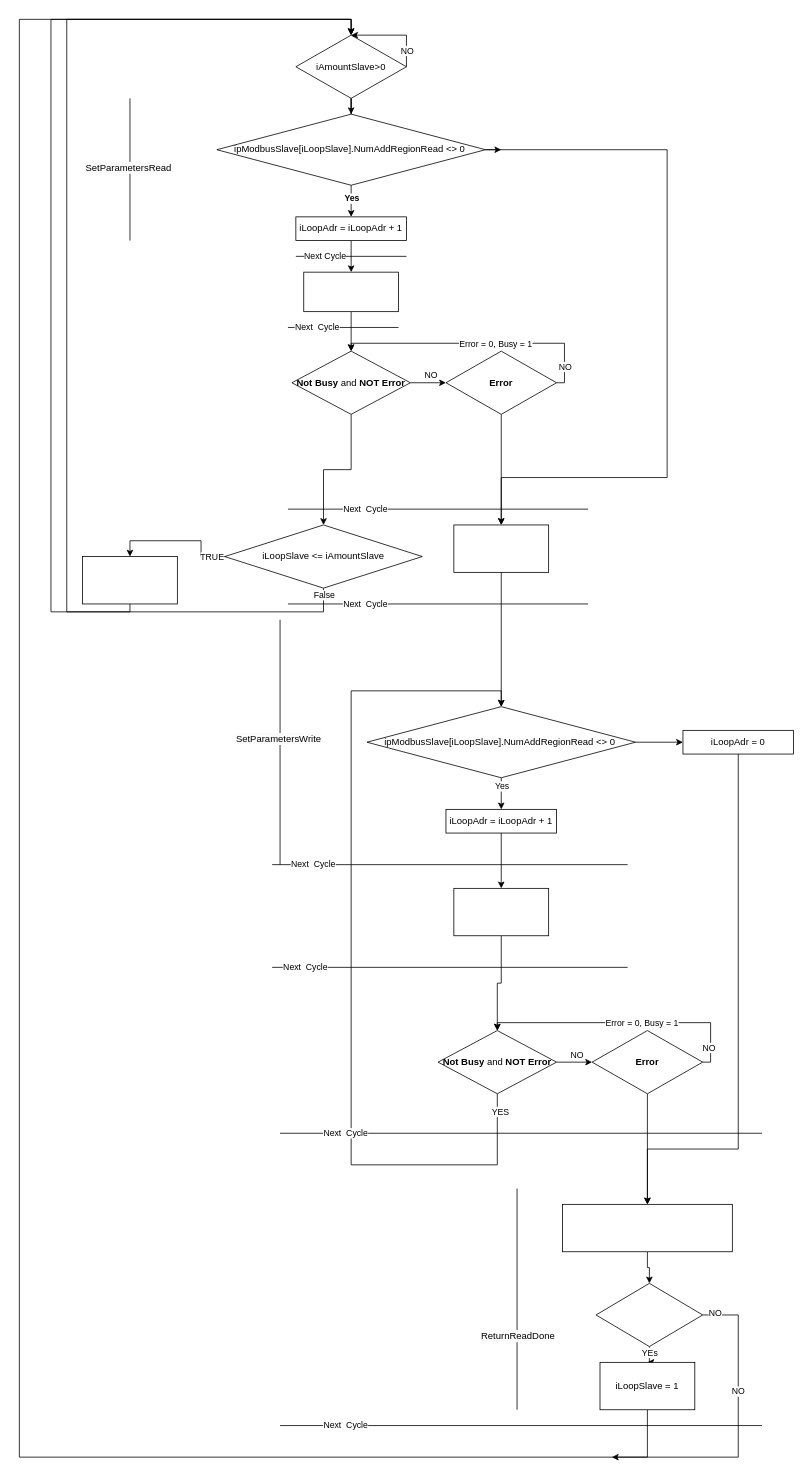
Some shapes in this 807 by 1477 pixel diagram are drawn without their labels. Each missing label, with the centre of its shape:
"Call Slave Conver Data" goes at pixel 129 580.
"iLoopAdr := 0; iLoopSlave := iLoopSlave + 1" goes at pixel 647 1228.
"iLoopSlave > iAmountSlave" goes at pixel 649 1315.
"RequestRead" goes at pixel 351 291.
"ReturnReadDone iLoopAdr := 0;" goes at pixel 501 548.
"SendRequestWrite" goes at pixel 501 912.
